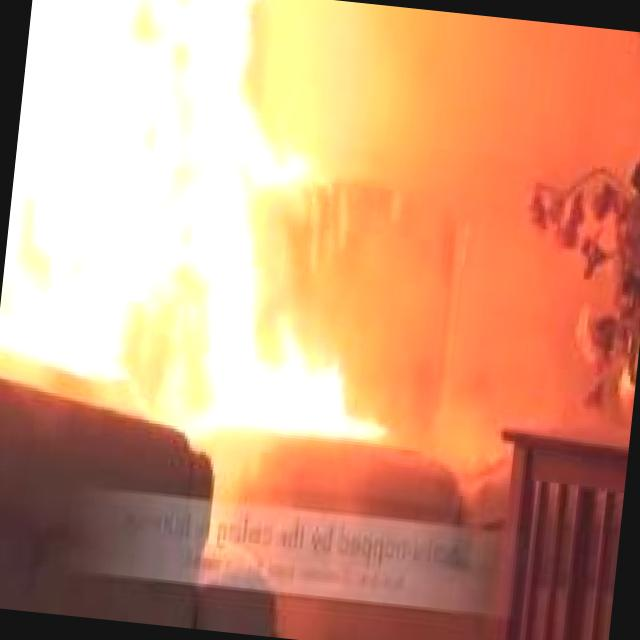fire: (0, 0, 410, 455)
